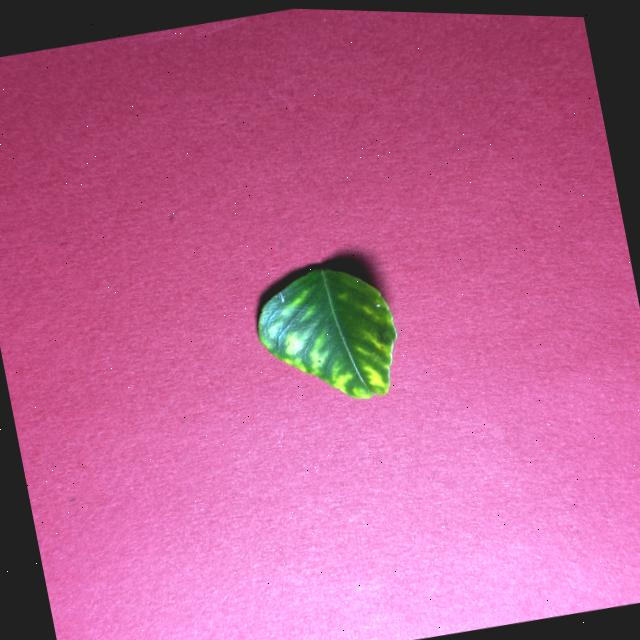greening: (257, 268, 395, 398)
